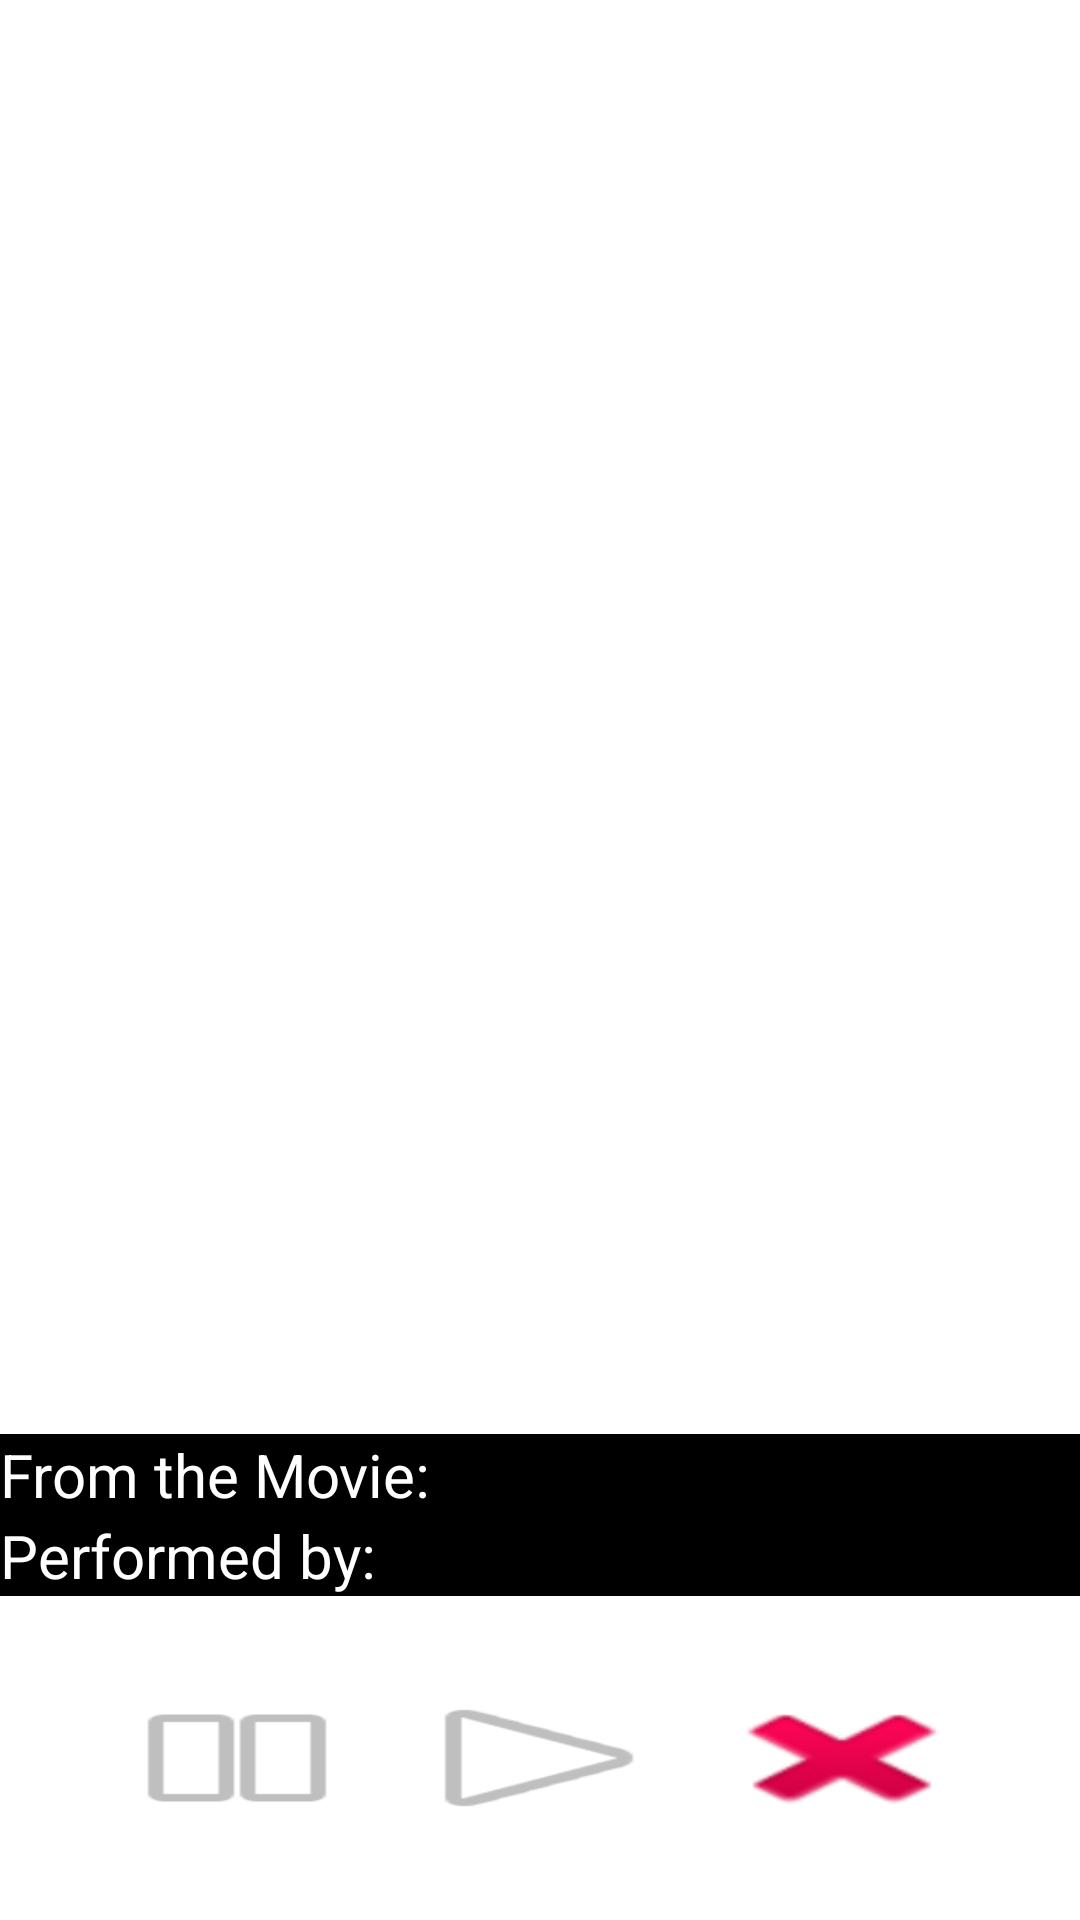

Named icons in this screenshot (1080px×1920px) and their centers, (x=x, y=y):
delete: (x=842, y=1758)
pause: (x=237, y=1758)
play: (x=539, y=1758)
